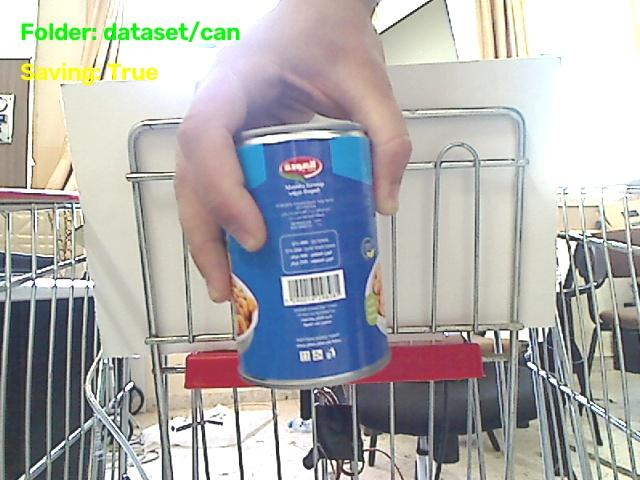can: (228, 122, 389, 388)
